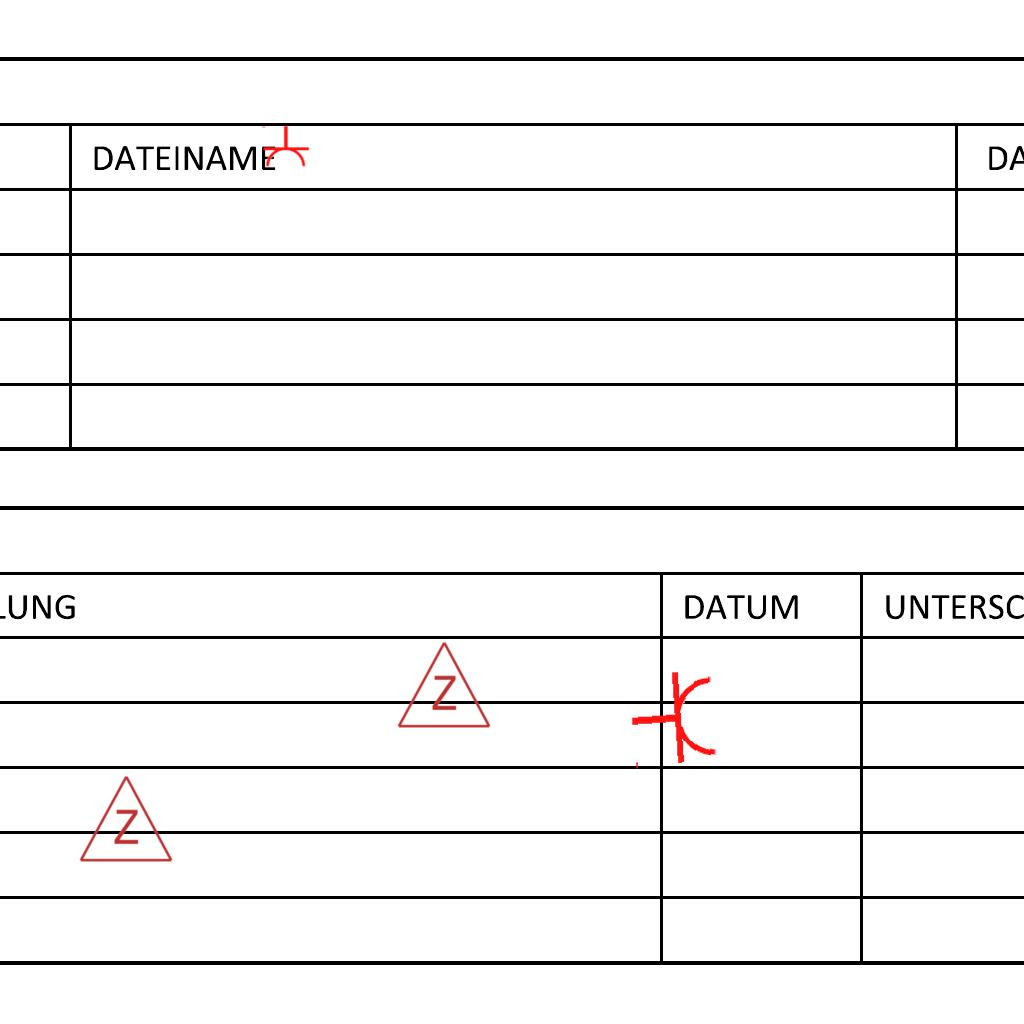Schukosteckdose_einfach: (626, 667, 721, 773), (260, 125, 310, 168)
Zimmersignalleuchte: (76, 769, 174, 869), (394, 635, 492, 735)
